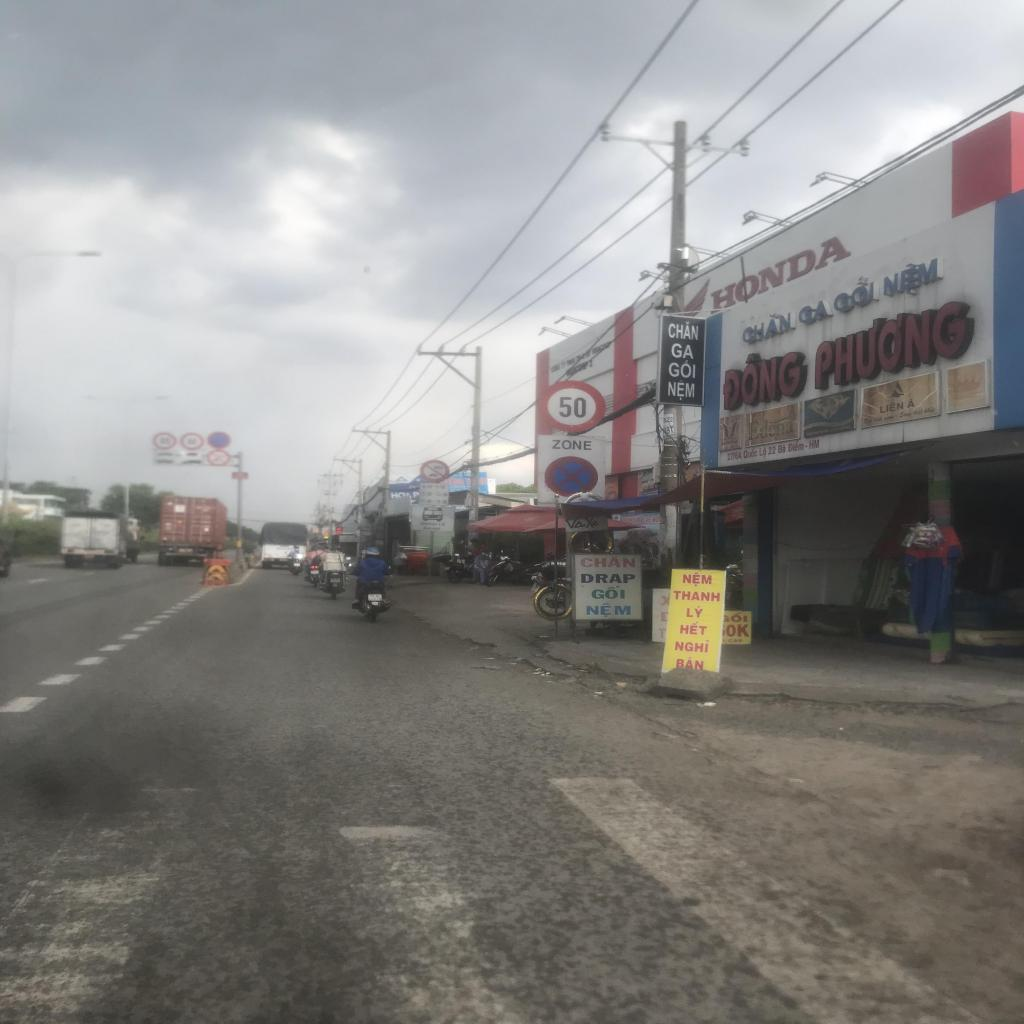cam_dung_xe_va_do_xe: (544, 456, 598, 497), (208, 431, 230, 450)
cam_o_to_tai_va_xe_khach: (419, 460, 450, 482)
cam_xe_2_banh_va_xe_3_banh_co_dong_co: (207, 448, 232, 467)
khac: (410, 506, 456, 532), (418, 482, 449, 505), (153, 457, 176, 465), (153, 448, 175, 456), (181, 458, 201, 465), (182, 450, 200, 457)
toc_do_toi_da_50: (538, 380, 606, 433)
toc_do_toi_da_60: (180, 432, 204, 450)
toc_do_toi_da_80: (153, 432, 177, 449)
